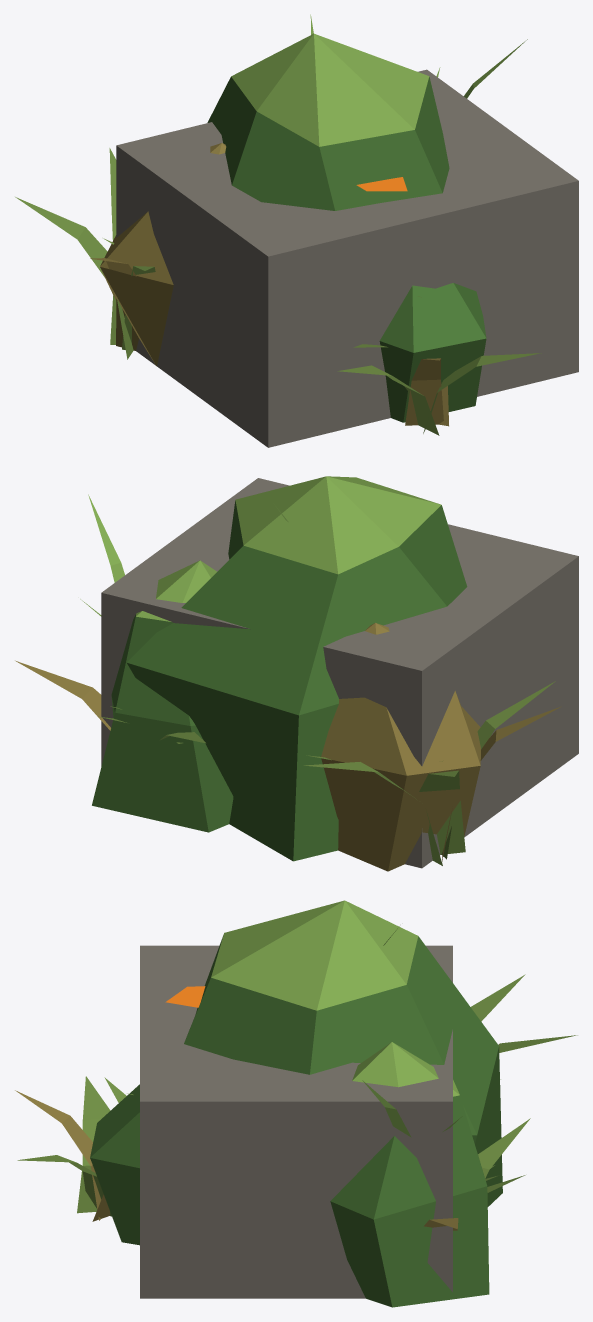
Rendered from props_plains.glb.
3 renders of one model, top to bottom at view 1: azimuth 30°, elevation 25°; view 2: azimuth 150°, elevation 25°; view 3: azimuth 270°, elevation 25°, orthographic. The views are drawn at different scales.
Parts seen in each view (by area): view 1: col_Plains_PebbleB, Plains_Shrub_LOD0, Plains_GrassTuftB_LOD0; view 2: Plains_Shrub_LOD0, col_Plains_PebbleB, Plains_GrassTuftB_LOD0; view 3: Plains_Shrub_LOD0, col_Plains_PebbleB, Plains_GrassTuftB_LOD0, Plains_FlowerCluster_LOD0.
Boxes of the visible parts, left/top/right/bottom form: col_Plains_PebbleB: left=116, top=69, right=578, bottom=447; Plains_Shrub_LOD0: left=100, top=33, right=486, bottom=422; Plains_GrassTuftB_LOD0: left=15, top=14, right=541, bottom=435; Plains_Shrub_LOD0: left=92, top=476, right=480, bottom=871; col_Plains_PebbleB: left=101, top=478, right=578, bottom=868; Plains_GrassTuftB_LOD0: left=15, top=494, right=561, bottom=865; Plains_Shrub_LOD0: left=90, top=900, right=502, bottom=1307; col_Plains_PebbleB: left=140, top=945, right=452, bottom=1298; Plains_GrassTuftB_LOD0: left=15, top=926, right=577, bottom=1230; Plains_FlowerCluster_LOD0: left=165, top=986, right=205, bottom=1007.
Size of what is drawn, in the model's own units: 1.3 by 0.8 by 1.3.
